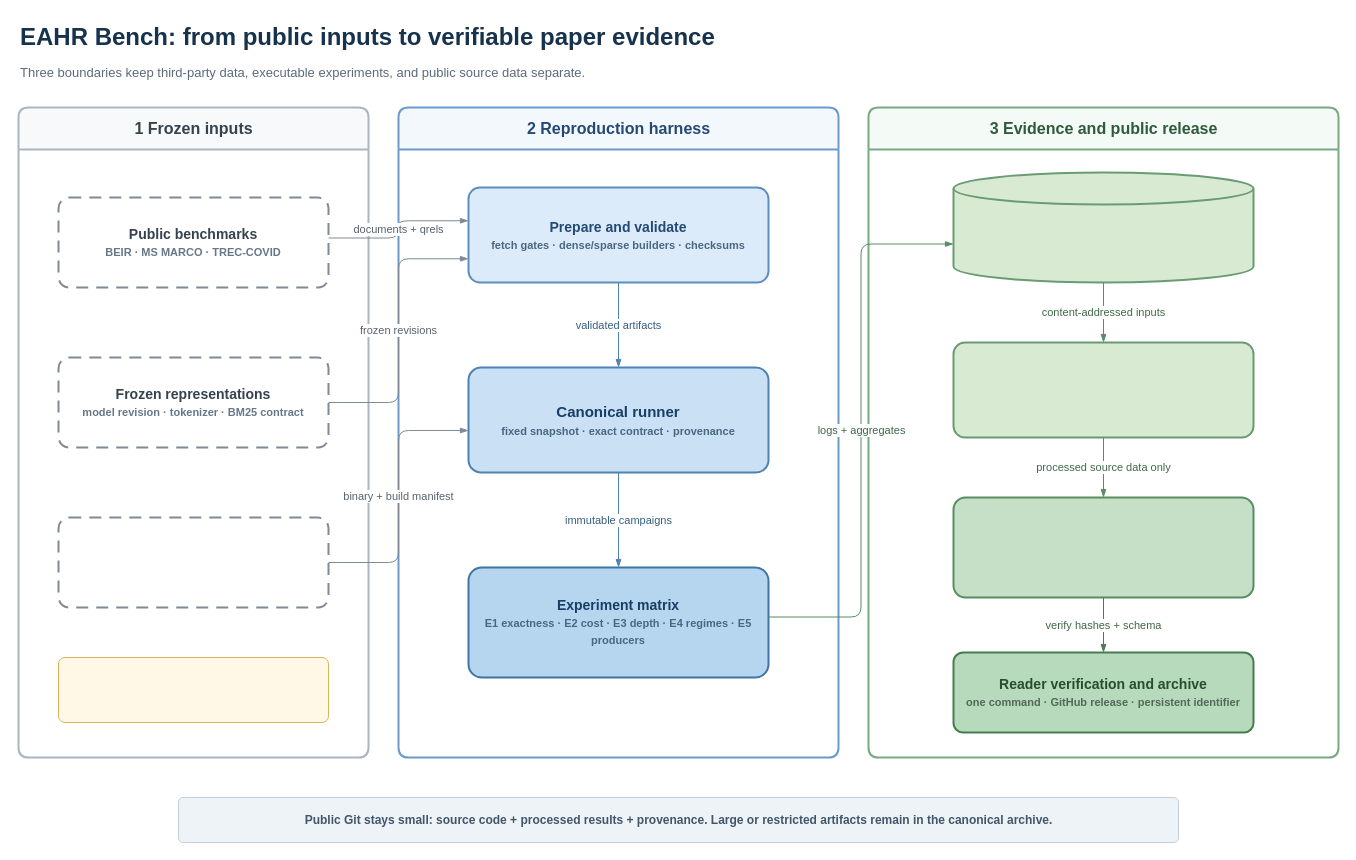
Some shapes in this 1356 by 860 pixel diagram are drawn without their labels. The centre of each missing label's shape, as x and y in pixels:
"Canonical evidence archive raw logs · aggregates · run manifests · SHA-256" belongs at point (1103, 227).
"Deterministic public packager select · sanitize paths · hash · map claims" belongs at point (1103, 389).
"Not redistributed Upstream licences and access routes remain authoritative." belongs at point (193, 689).
"paper-results/ 10 CSVs · data dictionary · manifest · provenance" belongs at point (1103, 547).
"StratuMind implementation commit · release binary · build manifest" belongs at point (193, 562).
